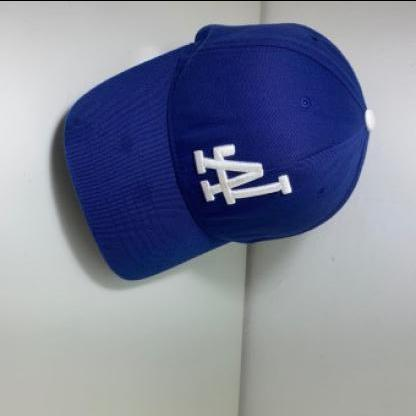cap: (58, 16, 382, 290)
